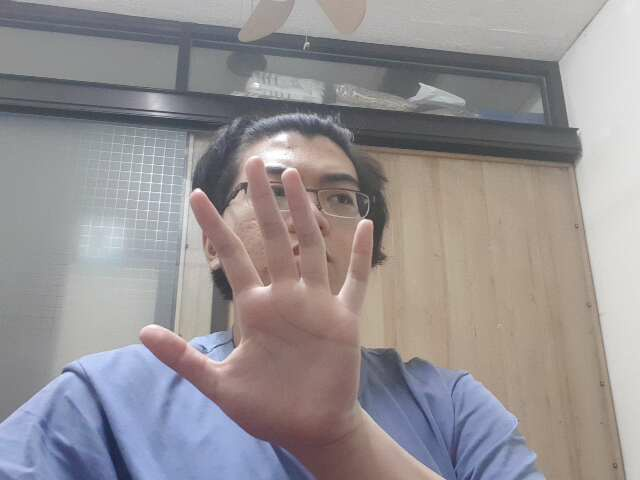hello: (133, 153, 376, 451)
